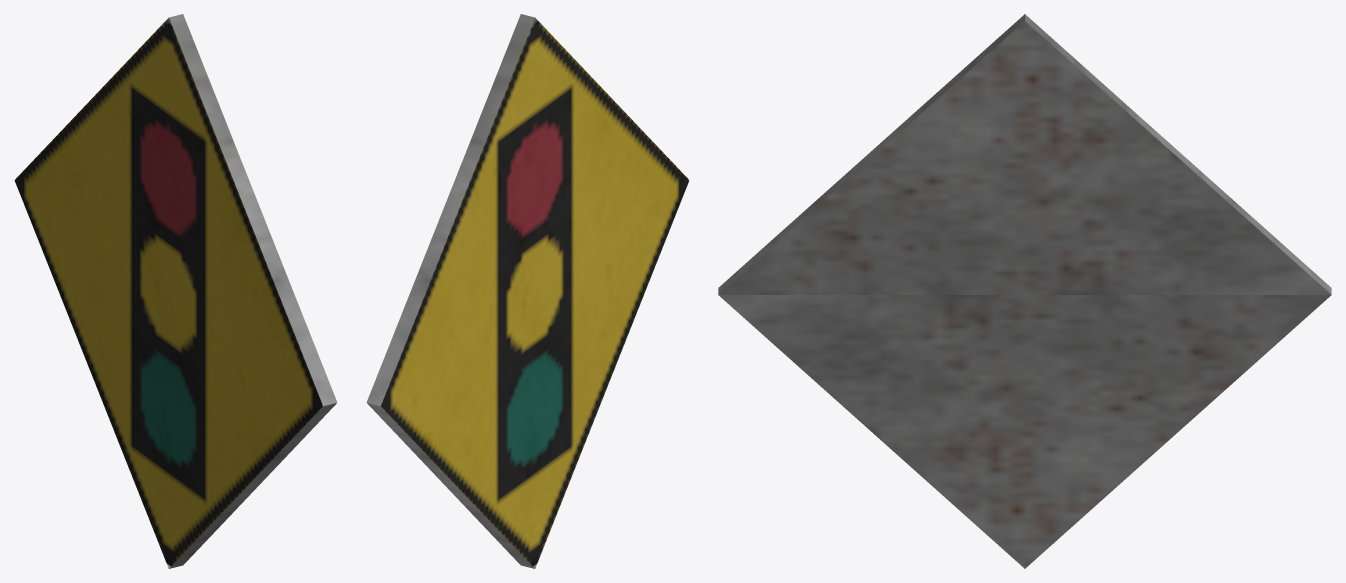
The model's file is Sign_TrafficLight_Plate.obj.
3 renders of one model, left to right at view 1: azimuth 30°, elevation 25°; view 2: azimuth 150°, elevation 25°; view 3: azimuth 270°, elevation 25°, orthographic.
Parts seen in each view (by area): view 1: Sign_TrafficLight_Plate; view 2: Sign_TrafficLight_Plate; view 3: Sign_TrafficLight_Plate.
Boxes of the visible parts, x1,y1,x2,y2 form: Sign_TrafficLight_Plate: [14, 14, 337, 568]; Sign_TrafficLight_Plate: [366, 14, 689, 568]; Sign_TrafficLight_Plate: [718, 14, 1331, 568].
Size of the model in its own units: 0.0152 by 0.5584 by 0.5665.
